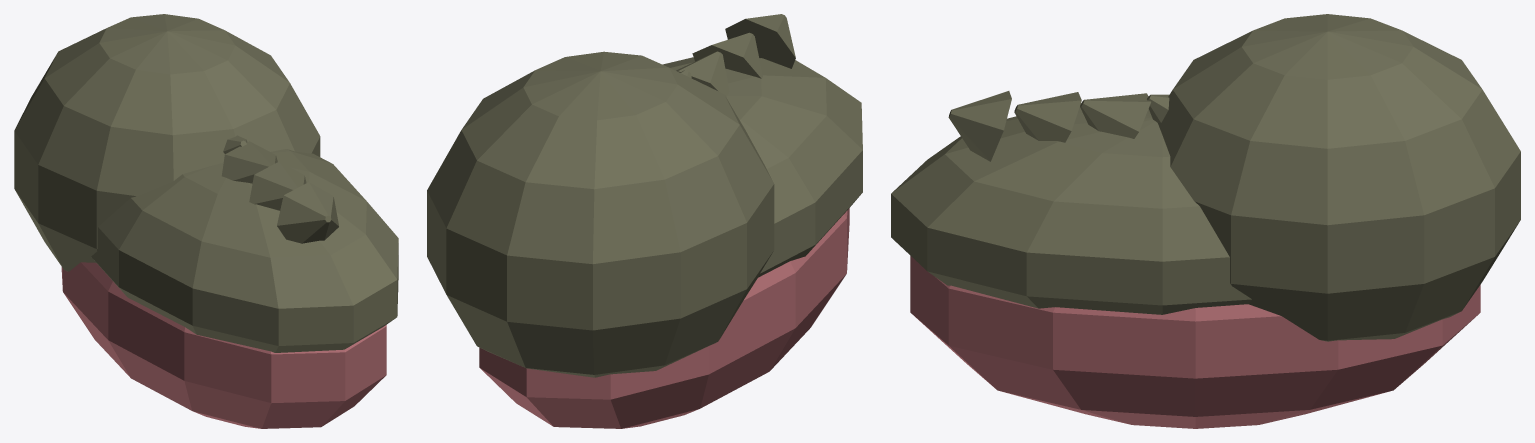
The model's file is chimera_b_body.obj.
3 renders of one model, left to right at view 1: azimuth 30°, elevation 25°; view 2: azimuth 150°, elevation 25°; view 3: azimuth 270°, elevation 25°, orthographic. The views are drawn at different scales.
Visible parts, largest first — view 1: chimera_b_body; view 2: chimera_b_body; view 3: chimera_b_body.
Boxes of the visible parts, bbox=[...] form: chimera_b_body: bbox=[14, 14, 398, 428]; chimera_b_body: bbox=[427, 14, 862, 428]; chimera_b_body: bbox=[891, 14, 1520, 428].
Size of the model in its own units: 0.7409 by 0.89 by 1.33.
